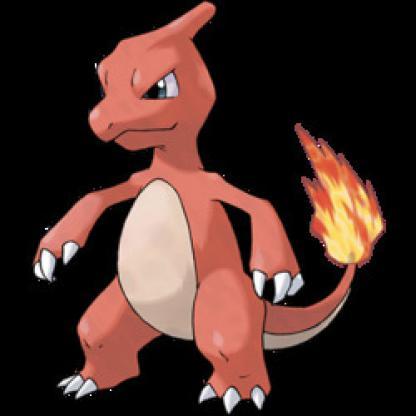Charmeleon: (1, 17, 412, 412)
